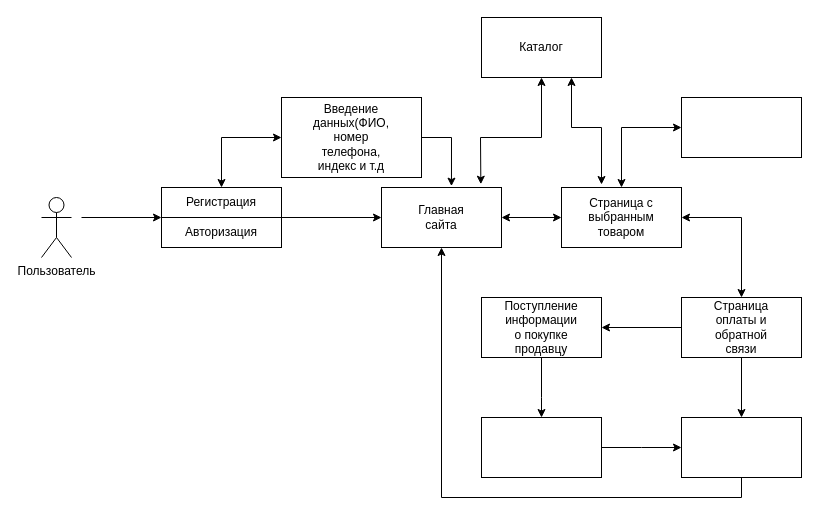
This 819x523 diagram has some shape labels left out. Each missing label, with the box of its shape:
Выбор параметров товара(размер, цвет и т.д): (680, 96, 802, 158)
Выдача трек-кода: (680, 416, 802, 478)
Отправка товара: (480, 416, 602, 478)
